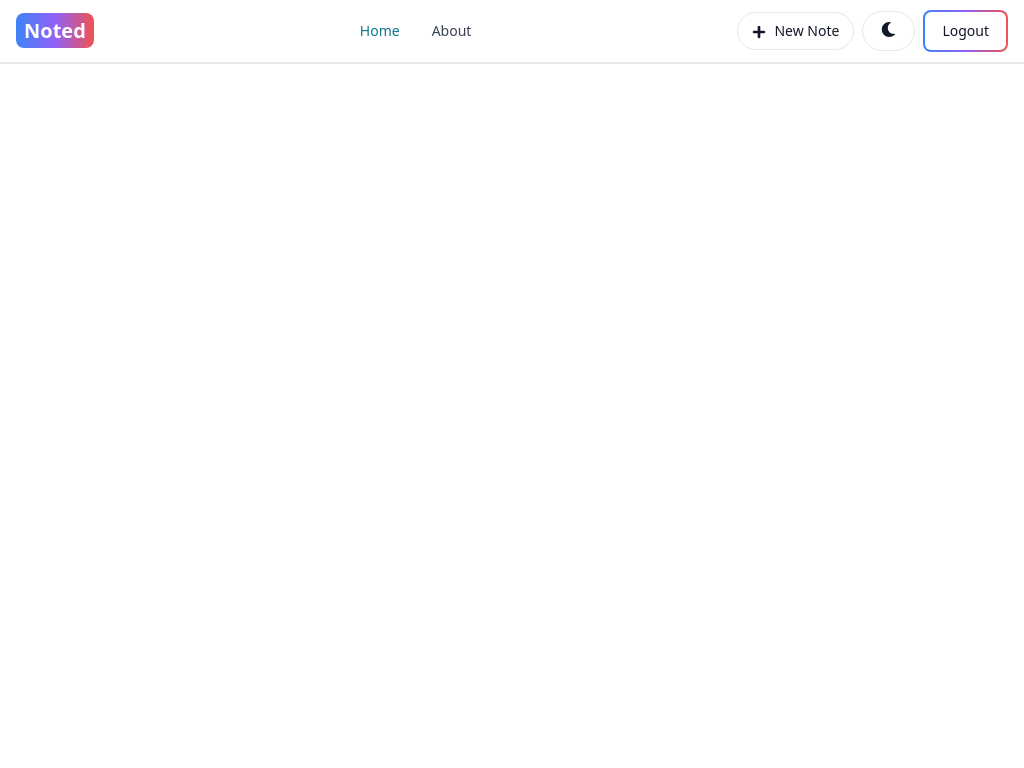
Test: Header Component › Note Creation Modal › opens note creation modal when authenticated user clicks new note
Click the button "New Note": (796, 31) 737,12 -> 854,50
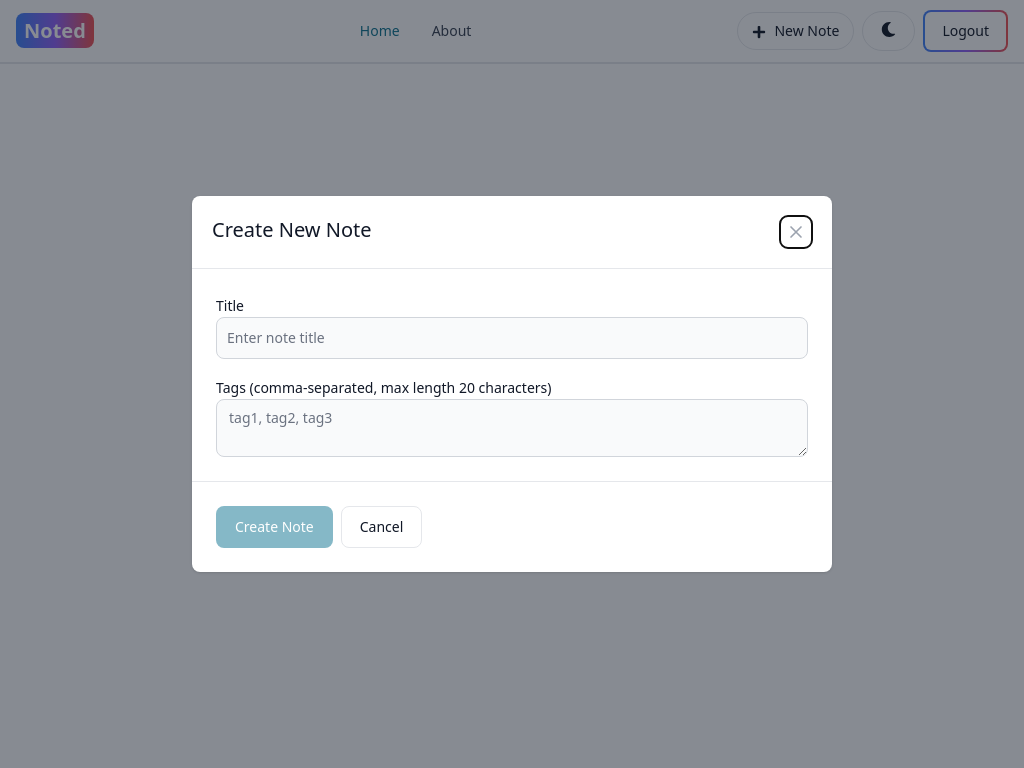
Expected: the dialog is shown, 176,180 -> 848,588
